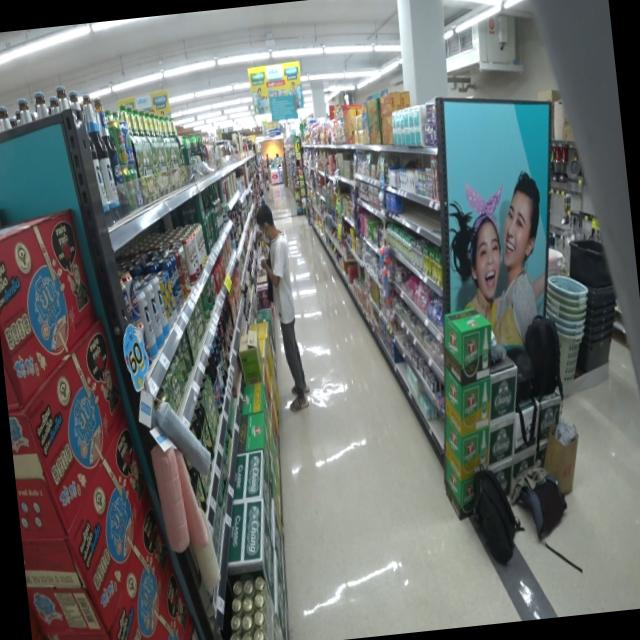shoplifting: (250, 202, 314, 412)
